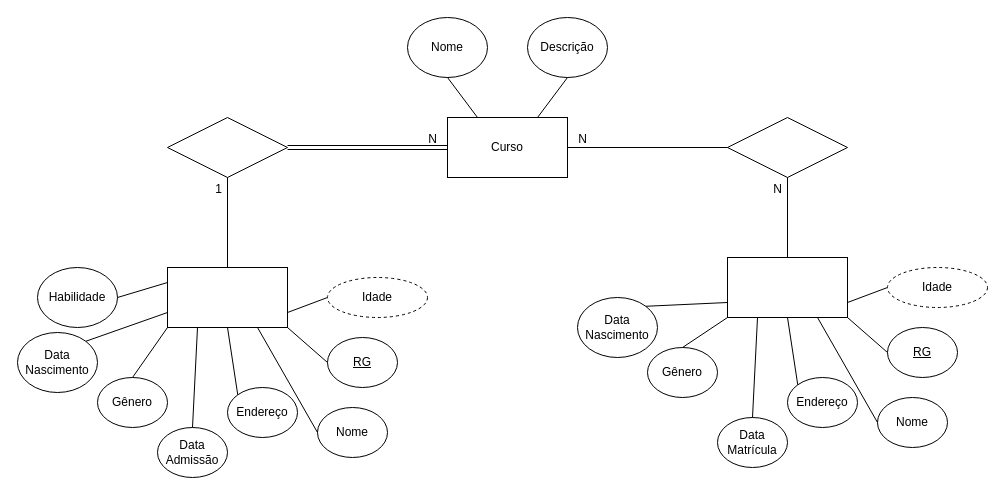
This 1005x495 diagram has some shape labels left out. The shapes that lost their labels are listed below. From the top down, each one's centre as x and y in pixels, then its label:
(x=227, y=147): Ministra
(x=787, y=147): Matricula-se
(x=227, y=297): Professor
(x=787, y=287): Aluno
